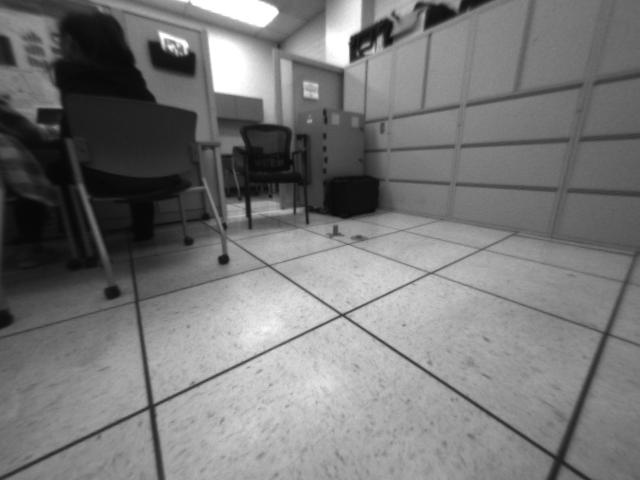X: (324, 223, 346, 239)
